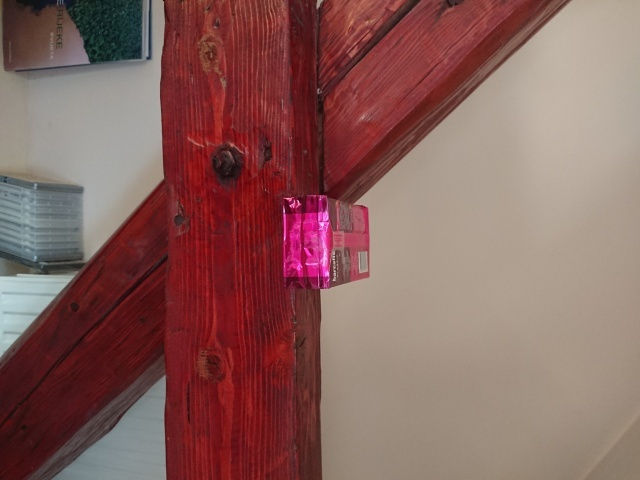Barcaffe Classic Original 225g: (280, 193, 372, 292)
